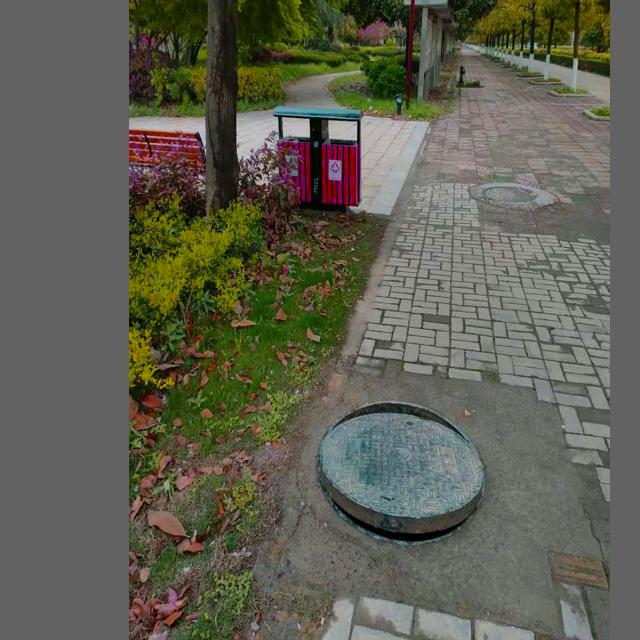uncovered: (305, 380, 492, 556)
